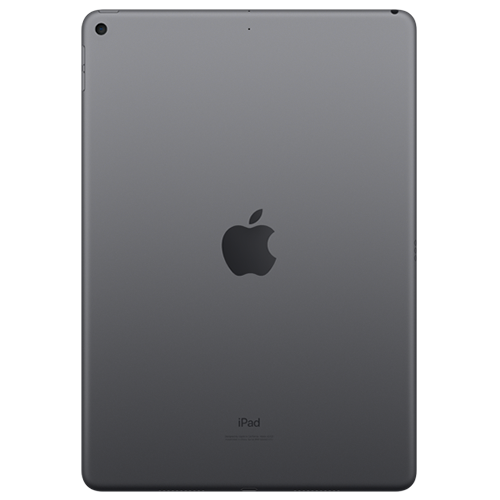apple: (206, 192, 304, 295)
